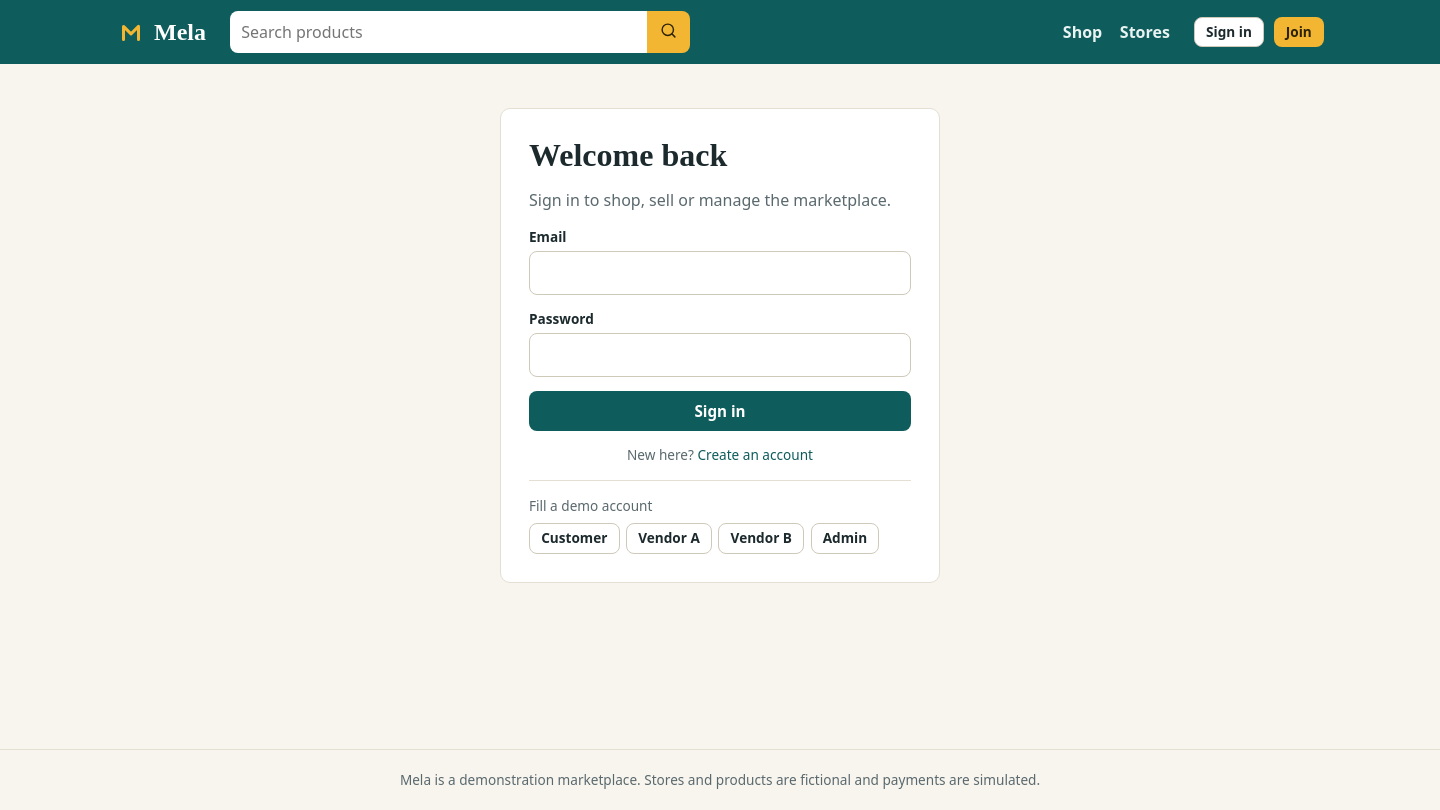
Test: protected routes › returns a visitor to the page they asked for after signing in
The image size is (1440, 810).
Type "c@example.com" into the field labelled "Email". click: (720, 273)
box: [529, 251, 911, 294]
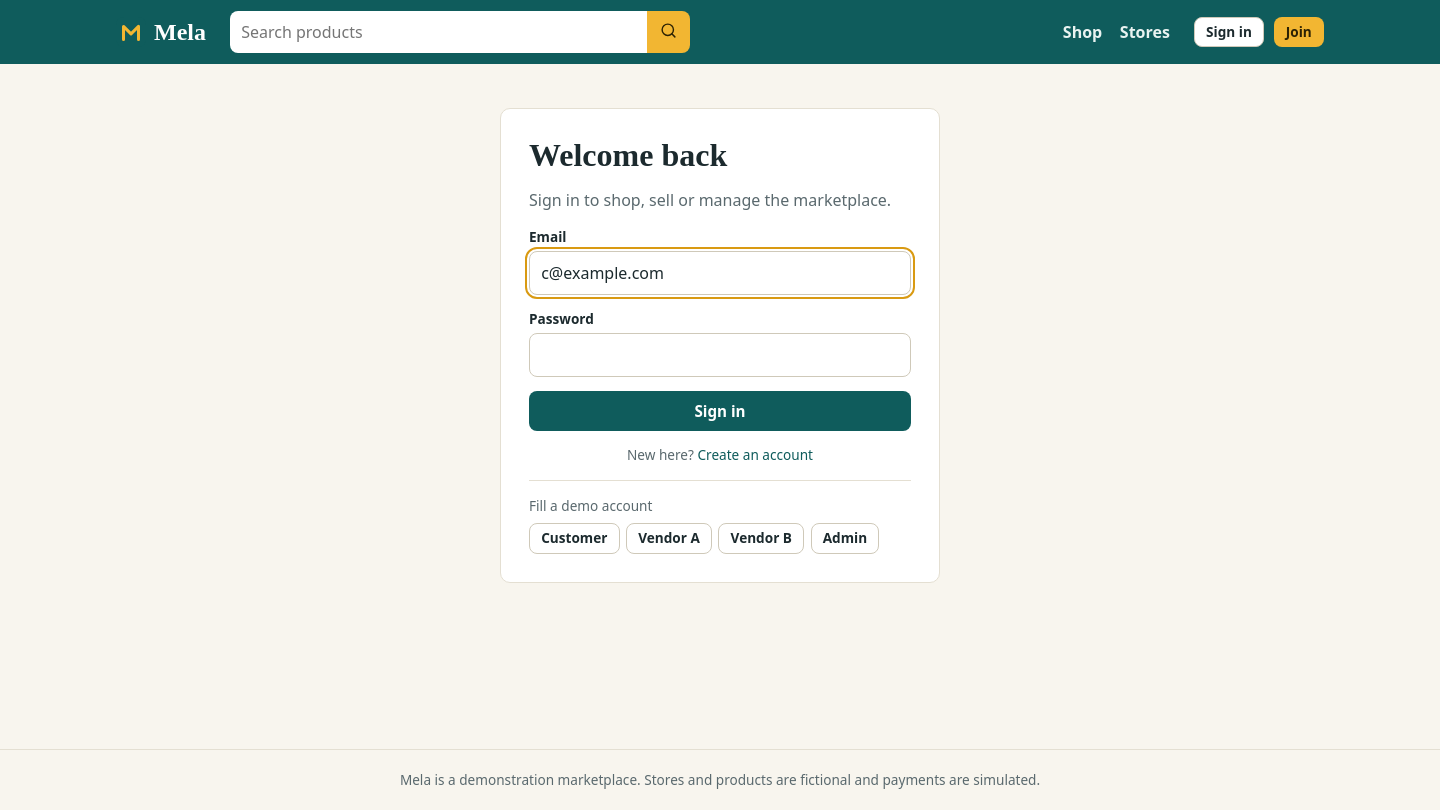
Type "x" into the password field labelled "Password". click: (720, 355)
box: [529, 333, 911, 377]
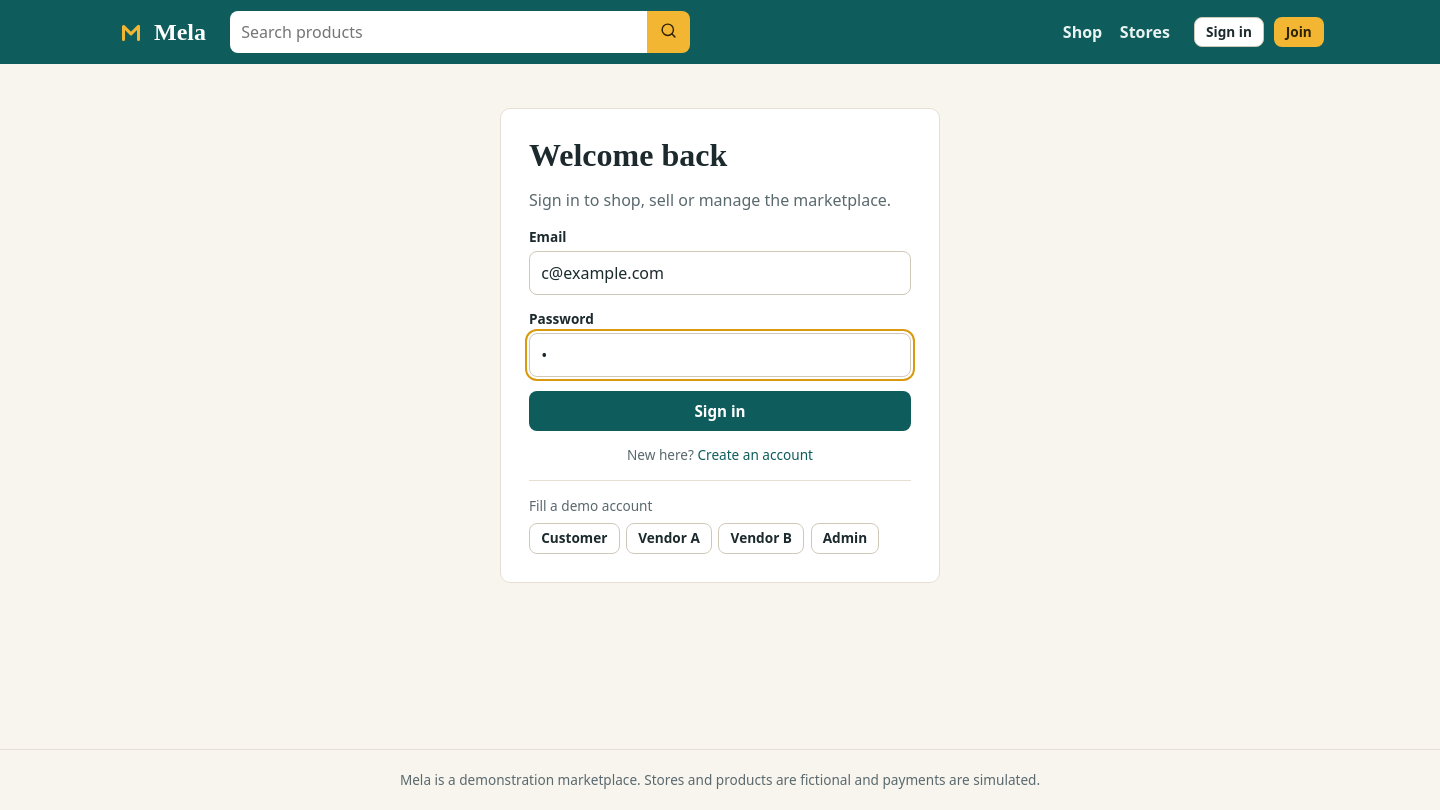
Click the button "Sign in". click: (720, 411)
box: [529, 391, 911, 431]
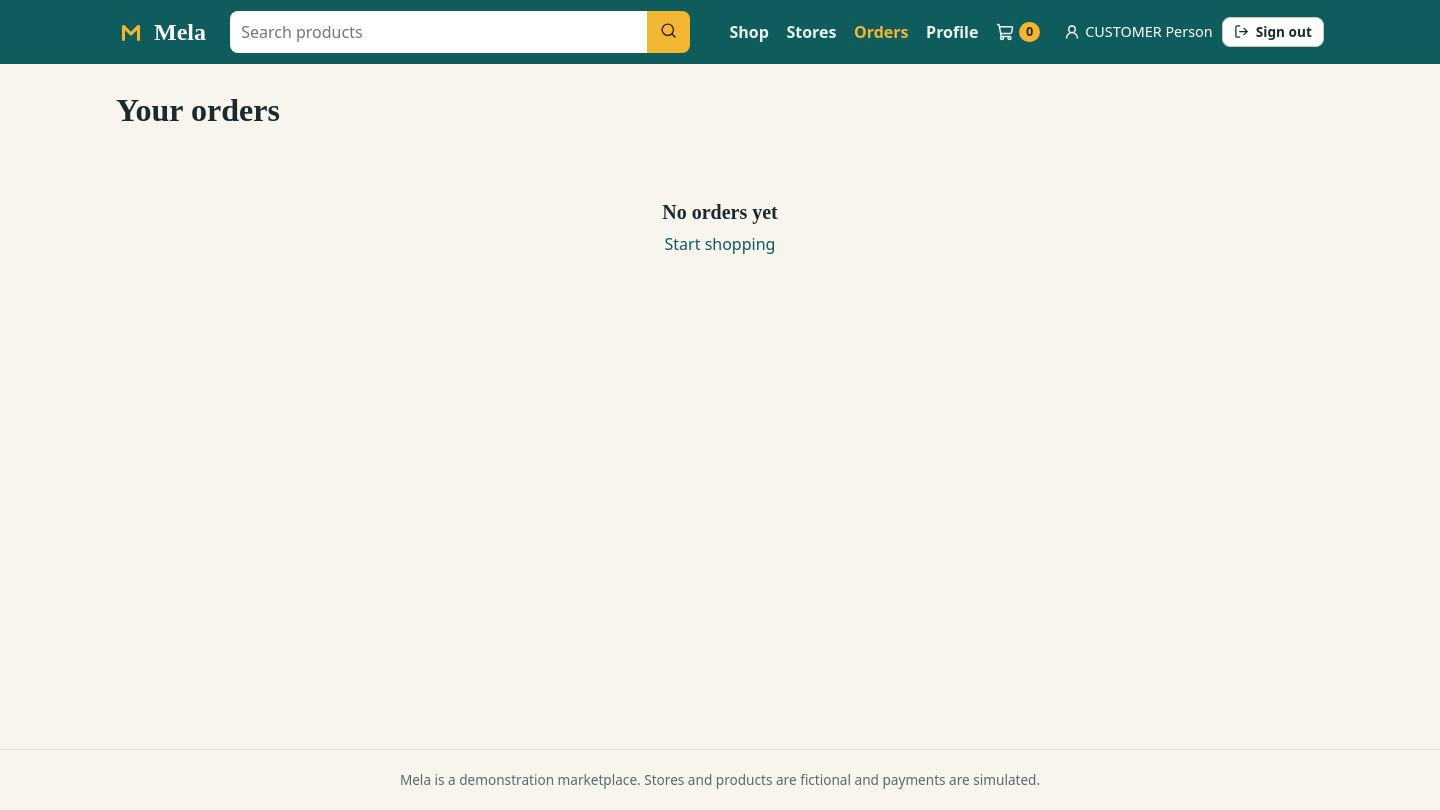
Result: the heading "No orders yet" is shown at [662, 201, 778, 223]
